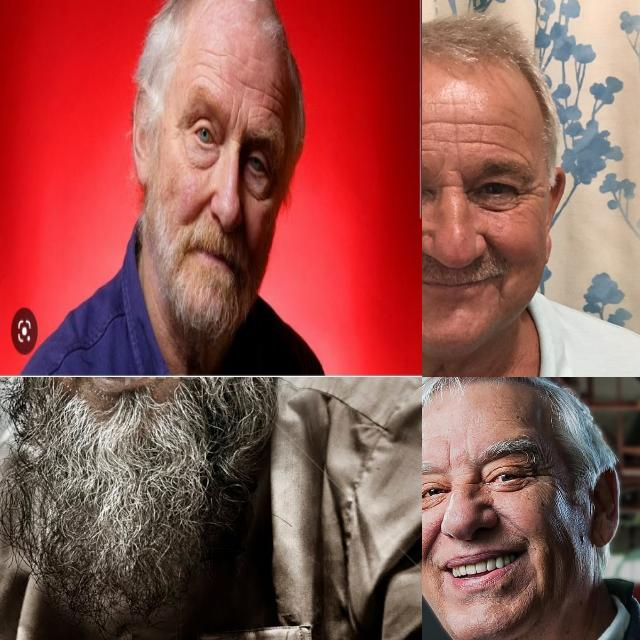bunny_line: (465, 477, 479, 495)
crows_feet: (518, 182, 544, 206), (523, 462, 539, 486)
forehead: (265, 77, 286, 126), (478, 116, 522, 138), (438, 113, 474, 137), (470, 134, 518, 152), (435, 134, 475, 152), (199, 45, 215, 81), (233, 71, 254, 95), (422, 141, 435, 157), (422, 117, 432, 133)
frown_line: (224, 106, 248, 128), (436, 174, 462, 194), (442, 448, 456, 474)
gummy_smile: (422, 525, 443, 560), (189, 191, 208, 221)
sad_smile: (489, 276, 508, 304)
